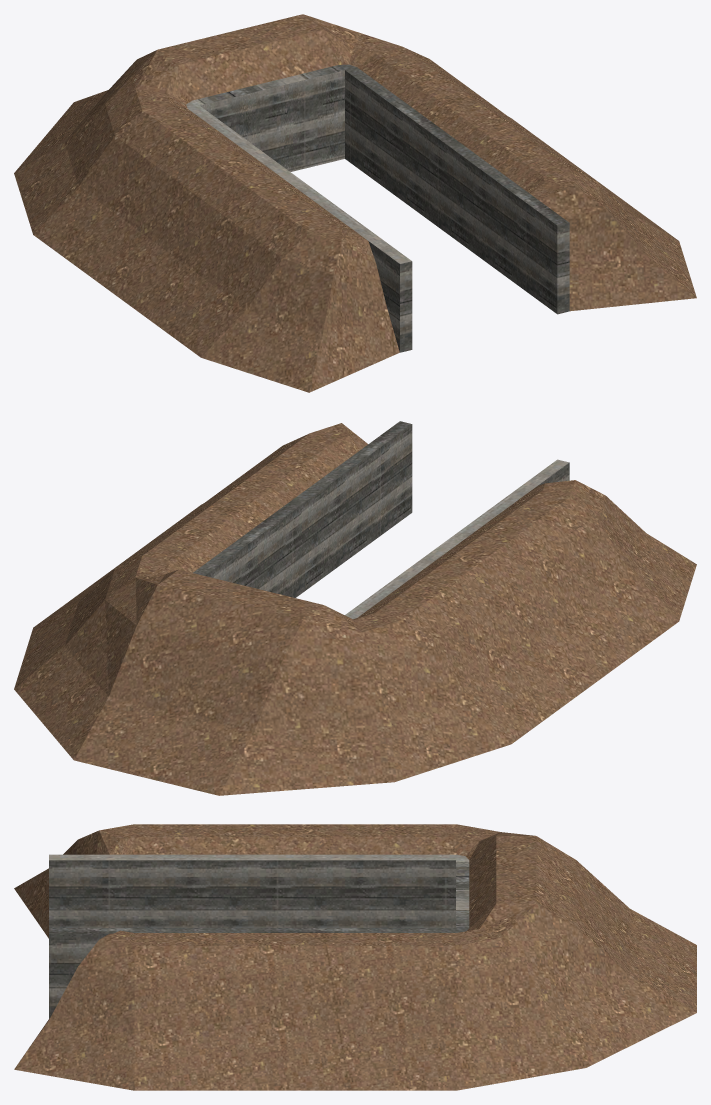
The model's file is tank_revetment.glb.
3 renders of one model, top to bottom at view 1: azimuth 30°, elevation 25°; view 2: azimuth 150°, elevation 25°; view 3: azimuth 270°, elevation 25°, orthographic. The views are drawn at different scales.
Parts seen in each view (by area): view 1: base; view 2: base; view 3: base.
Part boxes in pixels (bbox=[...]): base: bbox=[14, 14, 696, 392]; base: bbox=[14, 421, 696, 795]; base: bbox=[14, 824, 696, 1090].
Size of the model in its own units: 83.4 by 19 by 108.
Materials: 1 (1 with a texture image).
